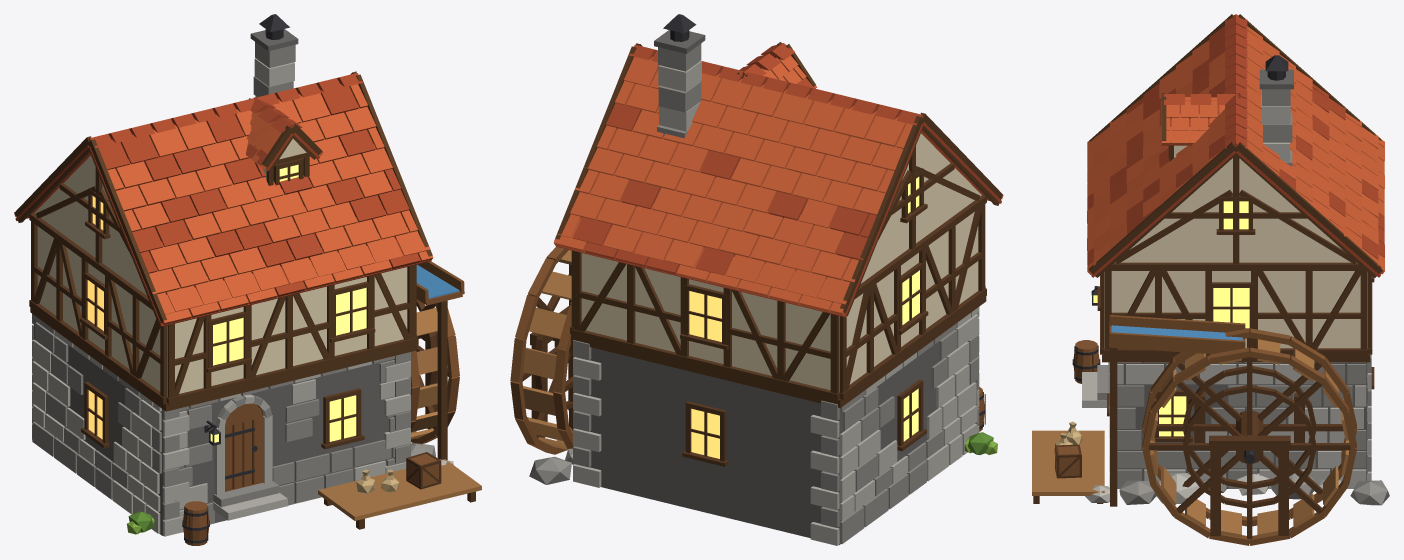
File: Pack_Watermill.fbx
3 renders of one model, left to right at view 1: azimuth 30°, elevation 25°; view 2: azimuth 150°, elevation 25°; view 3: azimuth 270°, elevation 25°, orthographic. The views are drawn at different scales.
Parts seen in each view (by area): view 1: Pack_Watermill_LOD0, Watermill_Wheel; view 2: Pack_Watermill_LOD0, Watermill_Wheel; view 3: Pack_Watermill_LOD0, Watermill_Wheel.
Part boxes in pixels (x1,y1,x2,y2): Pack_Watermill_LOD0: [14, 14, 481, 545]; Watermill_Wheel: [410, 299, 459, 443]; Pack_Watermill_LOD0: [529, 14, 1003, 545]; Watermill_Wheel: [510, 247, 574, 454]; Pack_Watermill_LOD0: [1032, 14, 1389, 535]; Watermill_Wheel: [1142, 328, 1356, 545].
Size of what is drawn, in the model's own units: 9.07 by 10.54 by 7.89.
